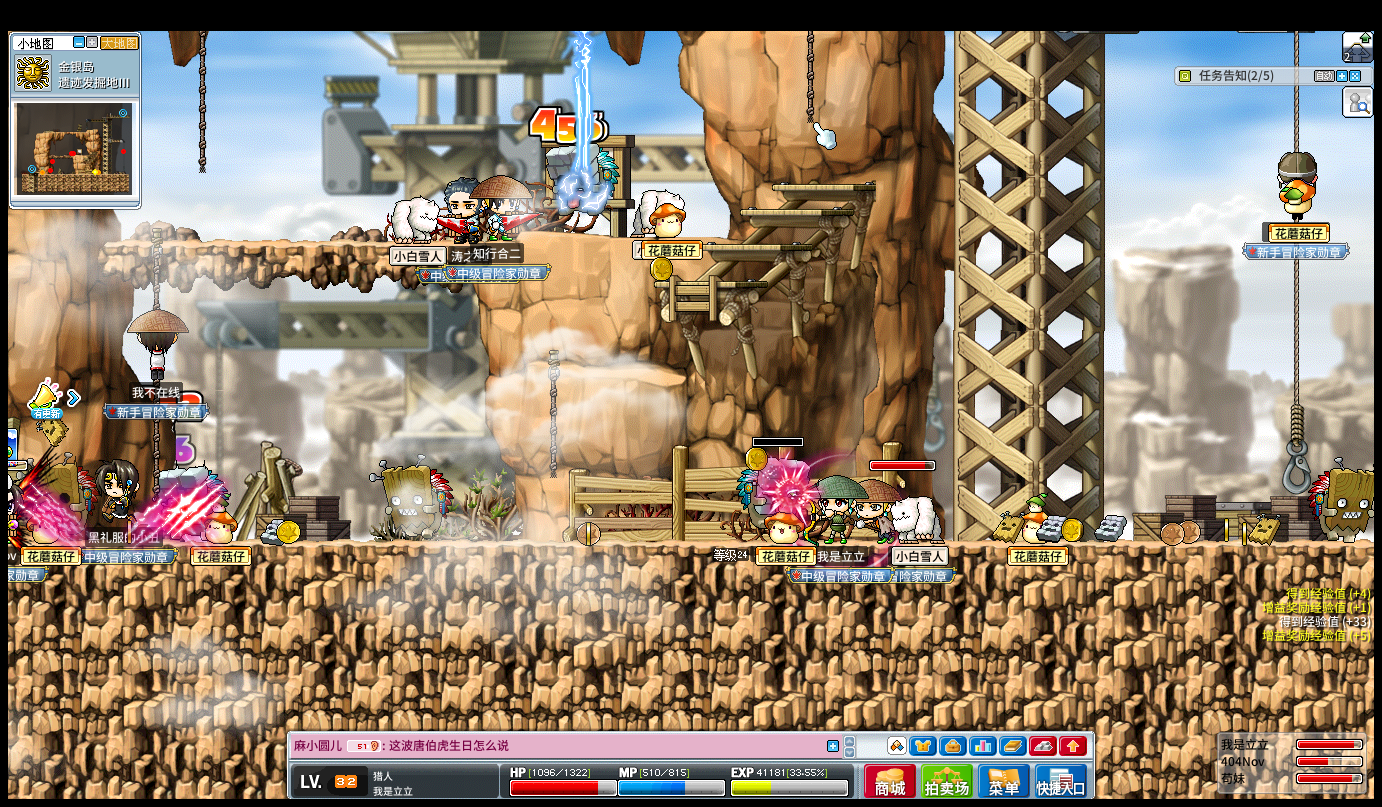floor: (106, 239, 478, 249), (576, 365, 688, 387), (591, 234, 738, 242), (649, 280, 768, 288), (737, 207, 852, 215), (700, 242, 811, 250), (771, 184, 877, 191)
monster: (374, 457, 452, 541), (546, 143, 618, 229), (1308, 458, 1379, 542), (30, 457, 95, 540)
rope: (546, 352, 561, 481), (1292, 256, 1302, 406), (198, 32, 207, 173), (805, 29, 814, 124), (1292, 30, 1299, 148), (153, 228, 163, 307), (1289, 399, 1304, 443), (152, 419, 160, 472)
